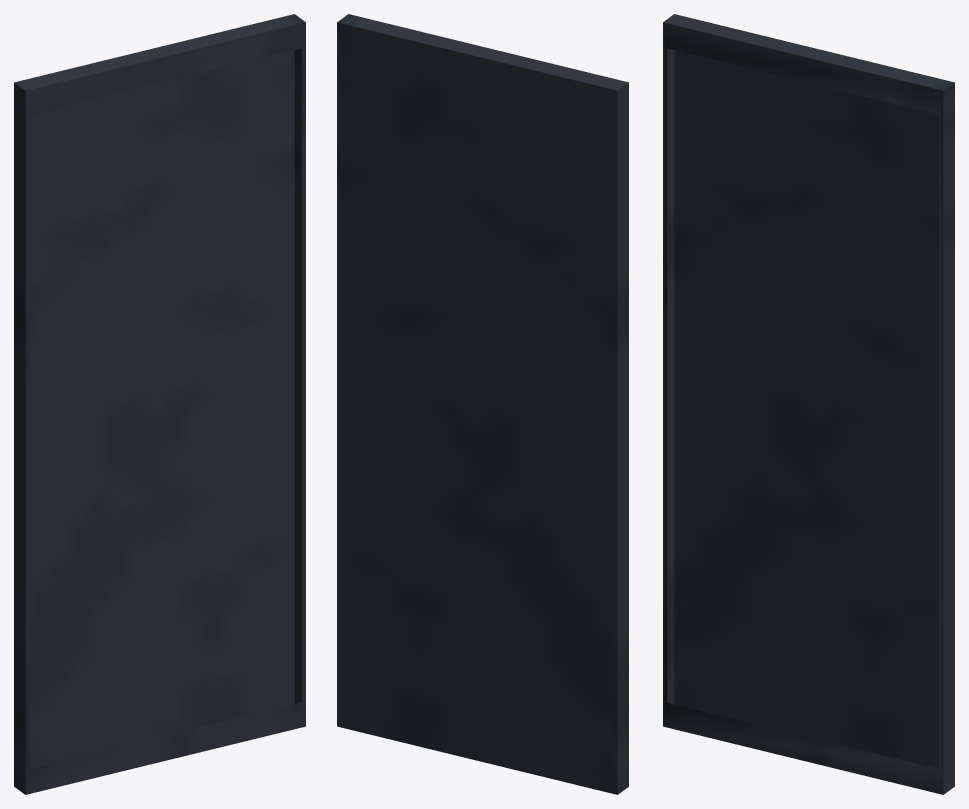
The model's file is light3.fbx.
3 renders of one model, left to right at view 1: azimuth 30°, elevation 25°; view 2: azimuth 150°, elevation 25°; view 3: azimuth 330°, elevation 25°, orthographic.
Parts seen in each view (by area): view 1: 平面.010; view 2: 平面.010; view 3: 平面.010.
Part boxes in pixels (<box>): 平面.010: <box>14,14,305,794</box>; 平面.010: <box>337,14,628,794</box>; 平面.010: <box>663,14,954,794</box>.
Size of the model in its own units: 26.3 by 63.09 by 8.08.
